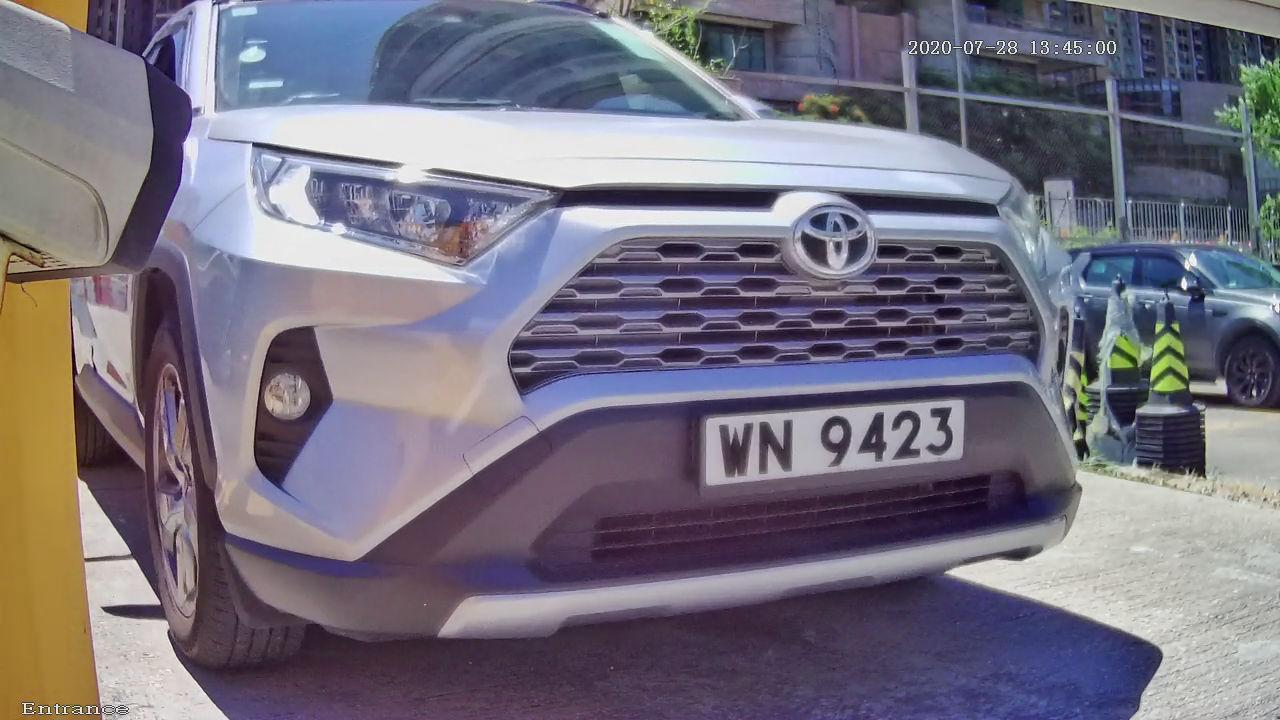privatecar: (58, 39, 1241, 682)
